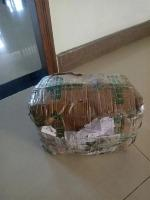undamaged: (24, 70, 145, 155)
